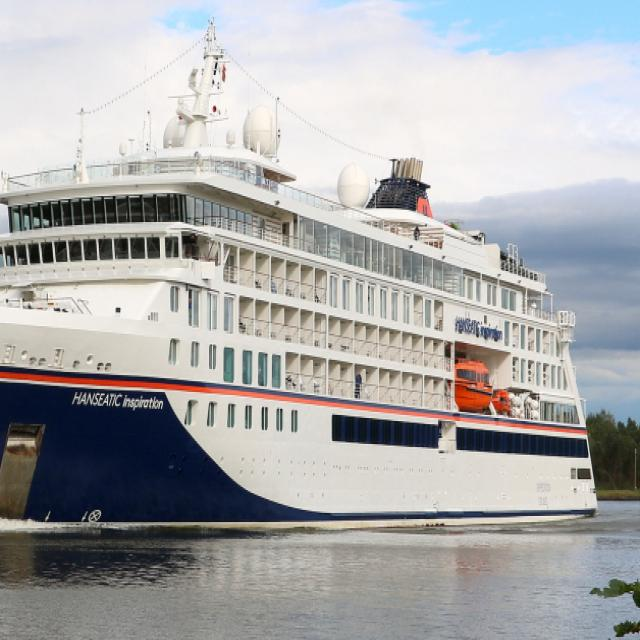cruises: (1, 16, 604, 552)
